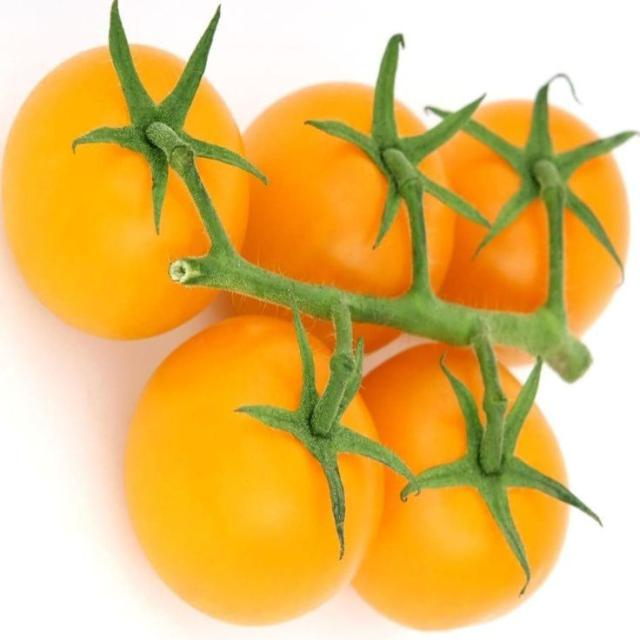level 4: (123, 316, 387, 627), (3, 43, 251, 343), (321, 342, 571, 632)
level 5: (215, 80, 458, 356), (406, 97, 630, 366)
